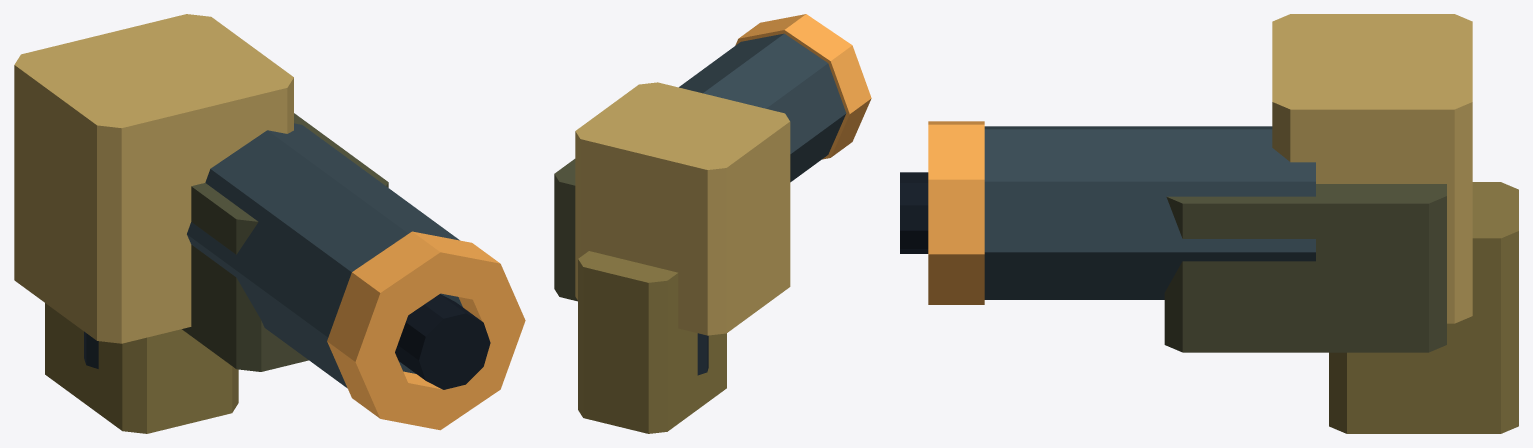
File: enemy_gunner_lod_forearm_r.obj
3 renders of one model, left to right at view 1: azimuth 30°, elevation 25°; view 2: azimuth 150°, elevation 25°; view 3: azimuth 270°, elevation 25°, orthographic. The views are drawn at different scales.
Size of the model in its own units: 0.55 by 0.725 by 1.21.
